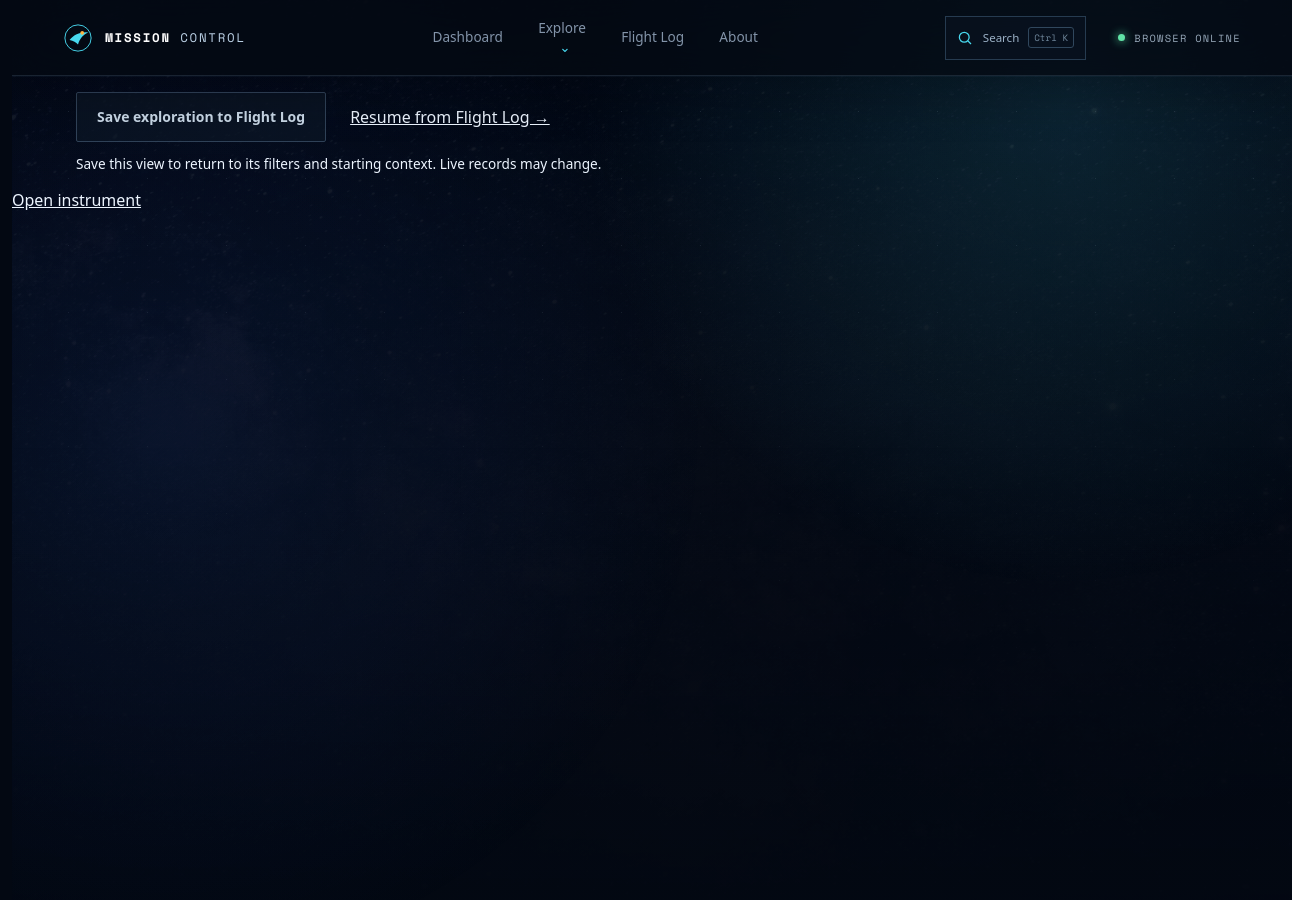
Scenario: AppShell reliability behavior › returns to the top when navigating to another pathname
The width and height of the screenshot is (1292, 900).
Click the link "Open instrument" at (76, 200), box [12,189,141,211]
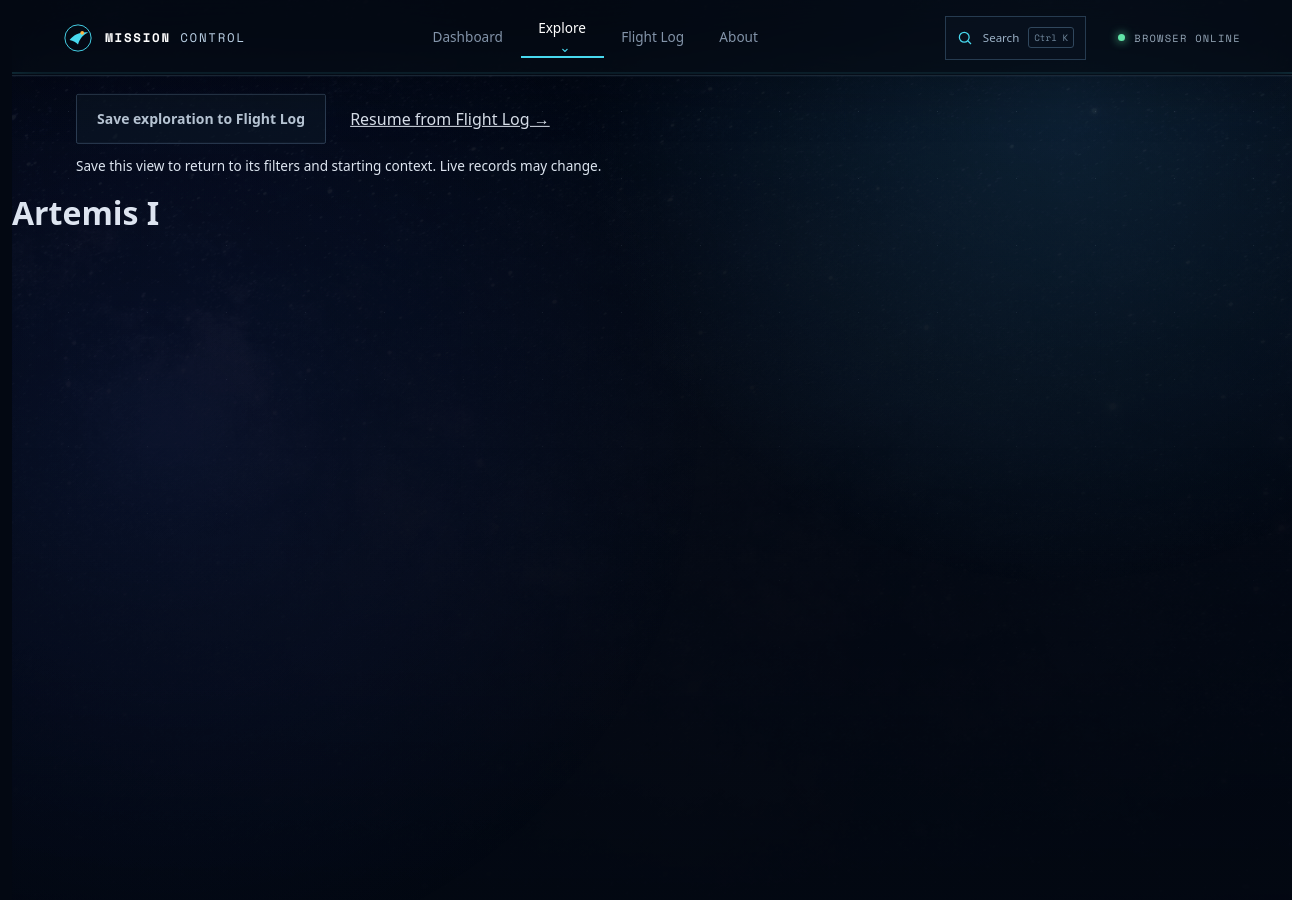
Result: the heading "Artemis I" is shown at [12,190,159,233]
